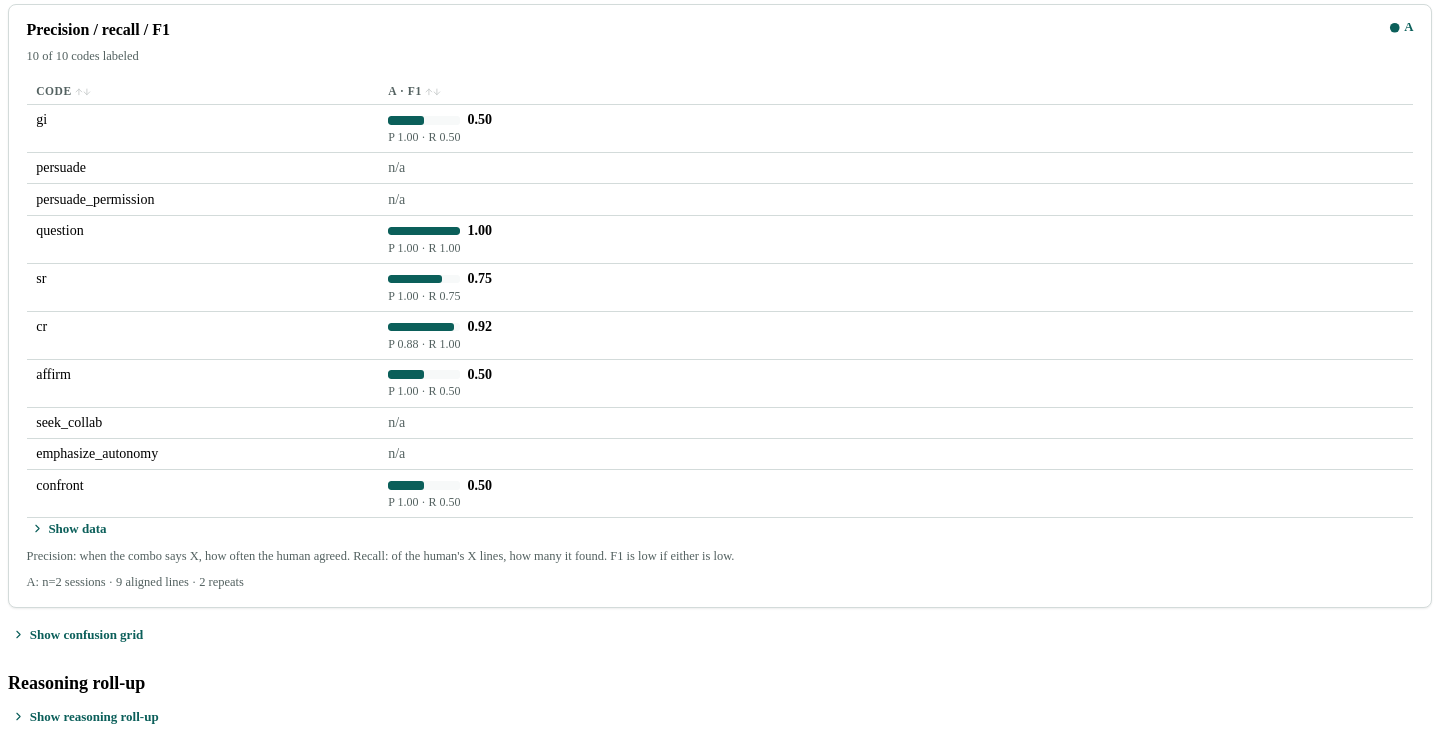
Test: loads Human gold notes without a combo filter and retains verbatim notes over pages
This screenshot has width=1440, height=732.
(page scrolled)
Click the button "Show reasoning roll-up": (85, 717) [8,706,163,727]
(page scrolled)
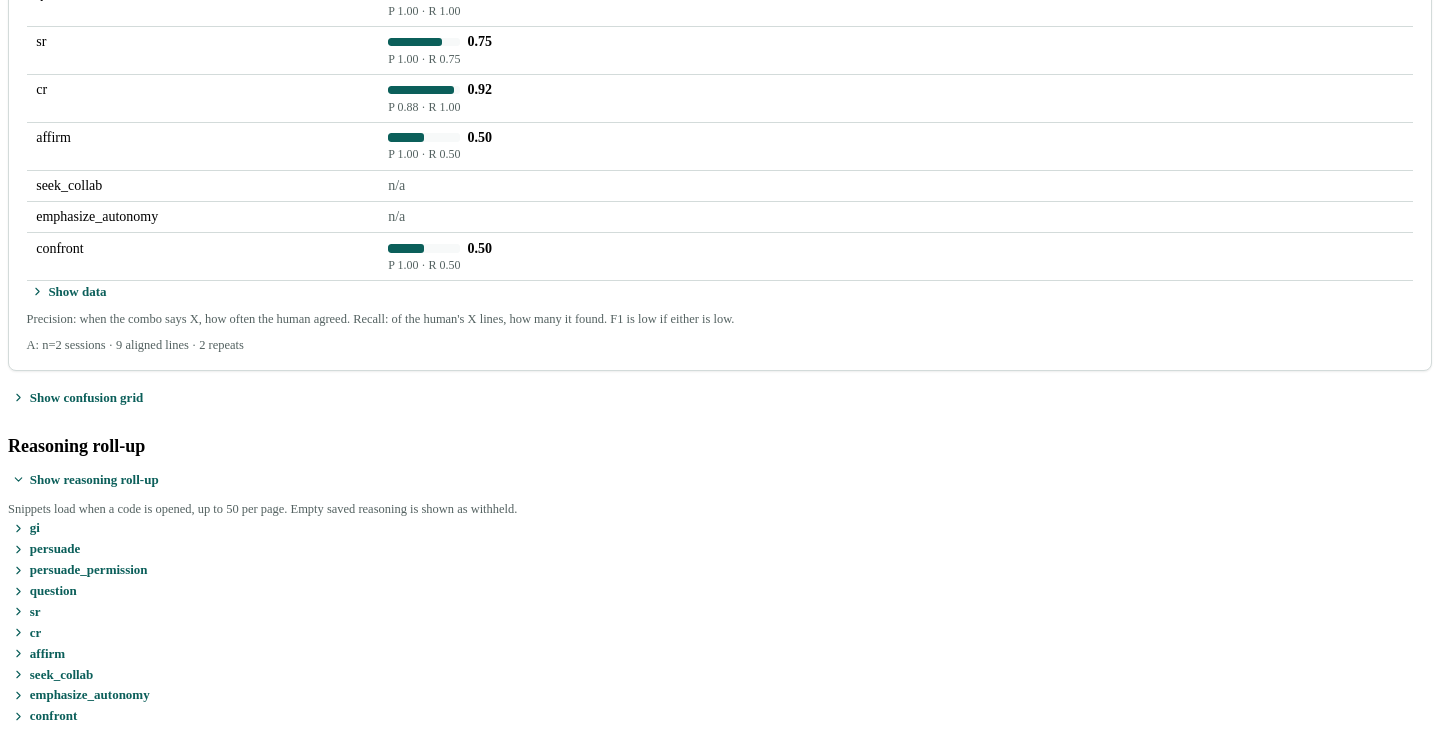
Click the button "affirm": (39, 654) [8,643,69,664]
(page scrolled)
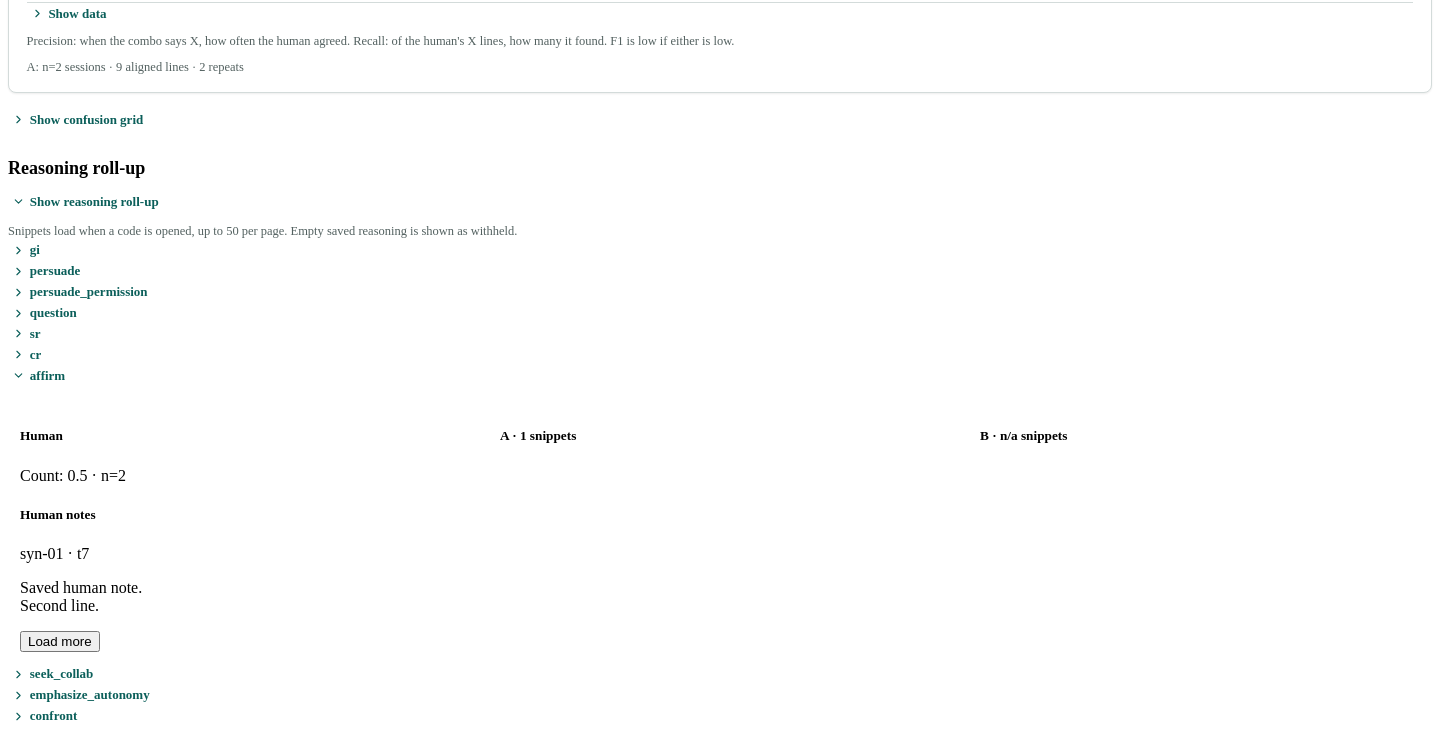
Click the button "Load more": (60, 641) [20,631,100,652]
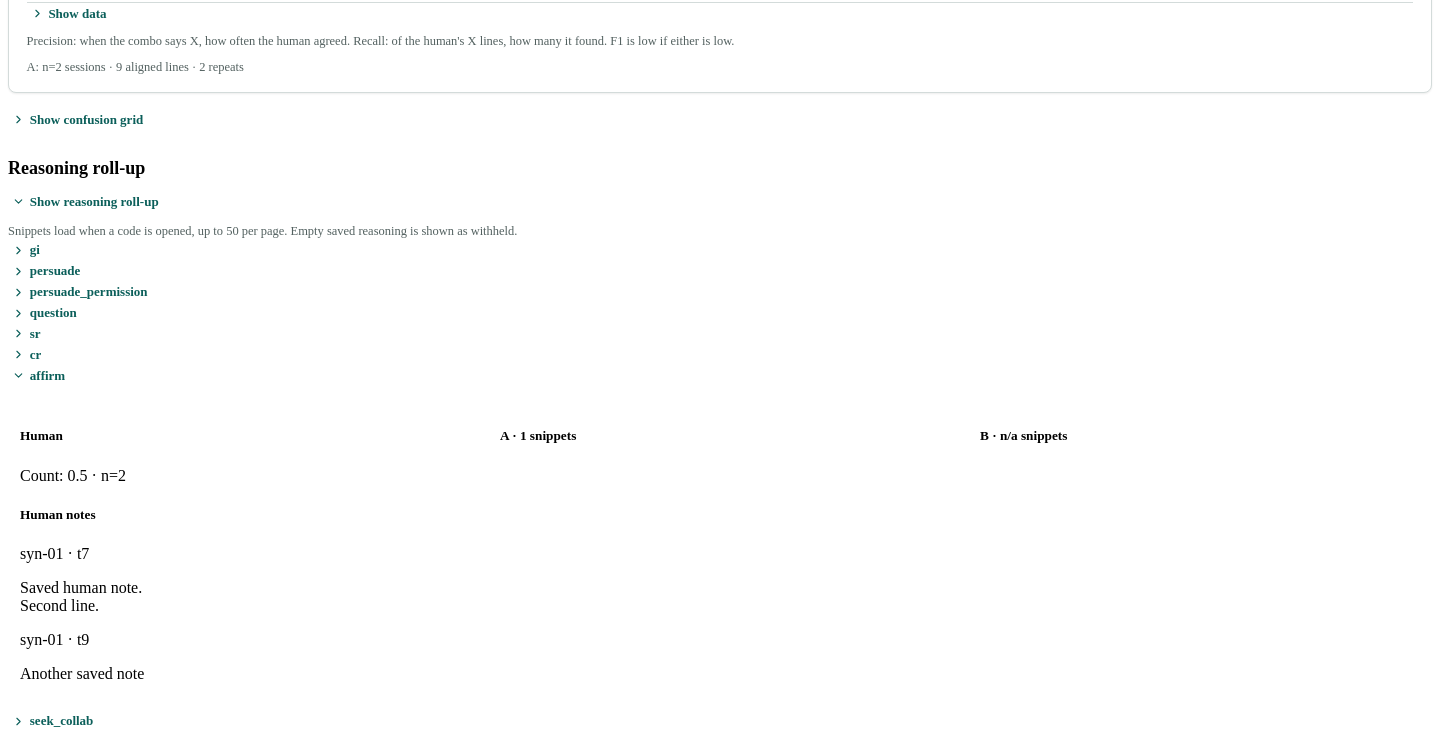
Result: the text "Another saved note" is shown at [20,665,144,682]
